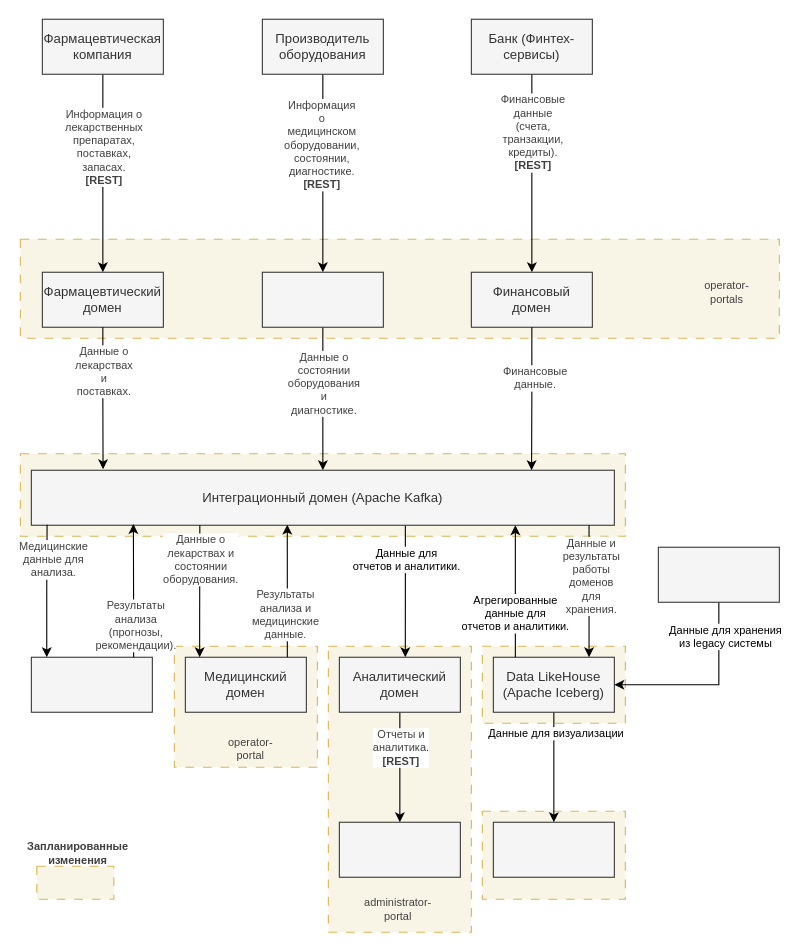
The diagram is 801 pixels wide and 952 high, and some of its shapes have lost their labels. Each missing label, with the centre of its shape:
"BI-система" goes at point (553, 849).
"DWH (SQL Server" goes at point (718, 574).
"Домен медицинского оборудования" goes at point (322, 299).
"ИИ сервисы" goes at point (91, 684).
"Портал самообслуживания" goes at point (399, 849).
